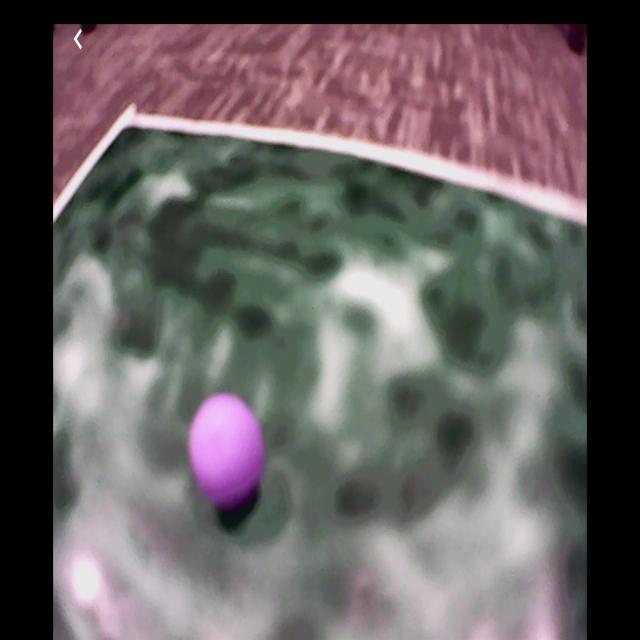ball: (187, 391, 267, 514)
